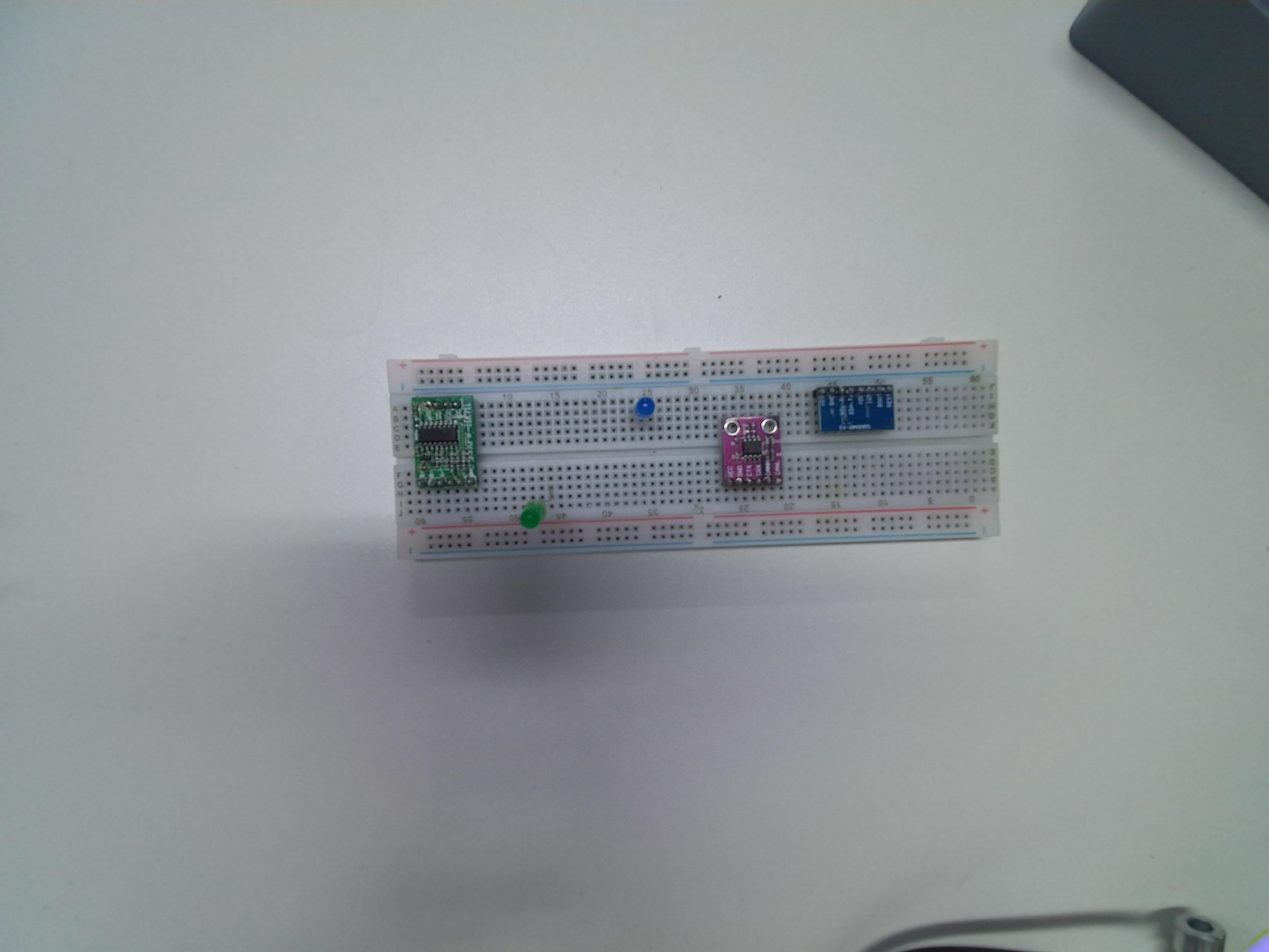base: (384, 343, 1003, 562)
blue-board: (814, 382, 896, 435)
blue-led: (634, 394, 658, 420)
esp: (408, 390, 480, 496)
green-board: (407, 389, 480, 495)
green-led: (519, 498, 548, 534)
purple-board: (719, 414, 782, 493), (720, 414, 784, 491)
